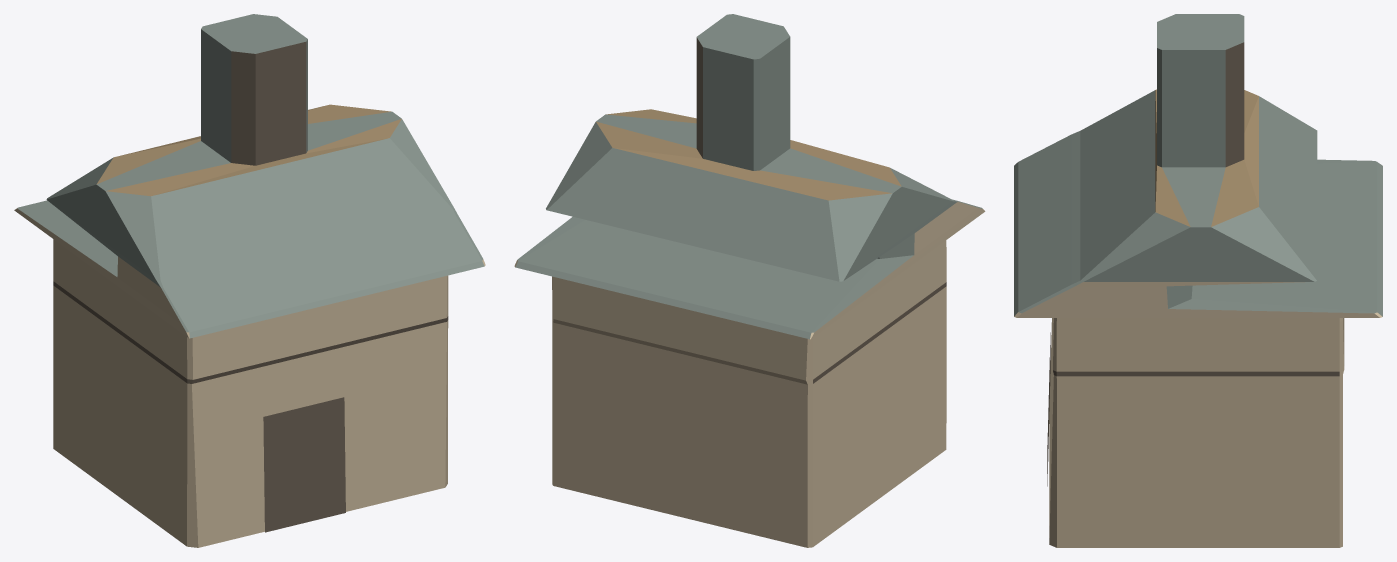
File: loin.glb
3 renders of one model, left to right at view 1: azimuth 30°, elevation 25°; view 2: azimuth 150°, elevation 25°; view 3: azimuth 270°, elevation 25°, orthographic. The views are drawn at different scales.
Visible parts, largest first — view 1: loin; view 2: loin; view 3: loin.
Boxes of the visible parts, bbox=[...] form: loin: bbox=[14, 14, 485, 547]; loin: bbox=[514, 14, 985, 547]; loin: bbox=[1014, 14, 1382, 547].
Size of the model in its own units: 0.68 by 0.9384 by 0.6943.
